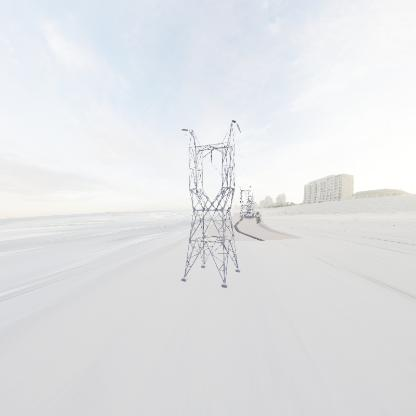tower: (179, 117, 246, 291)
